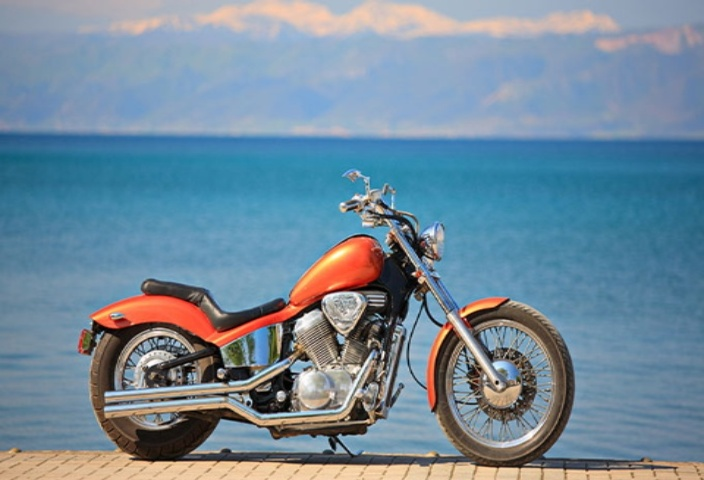motorcycle: (46, 158, 614, 480)
